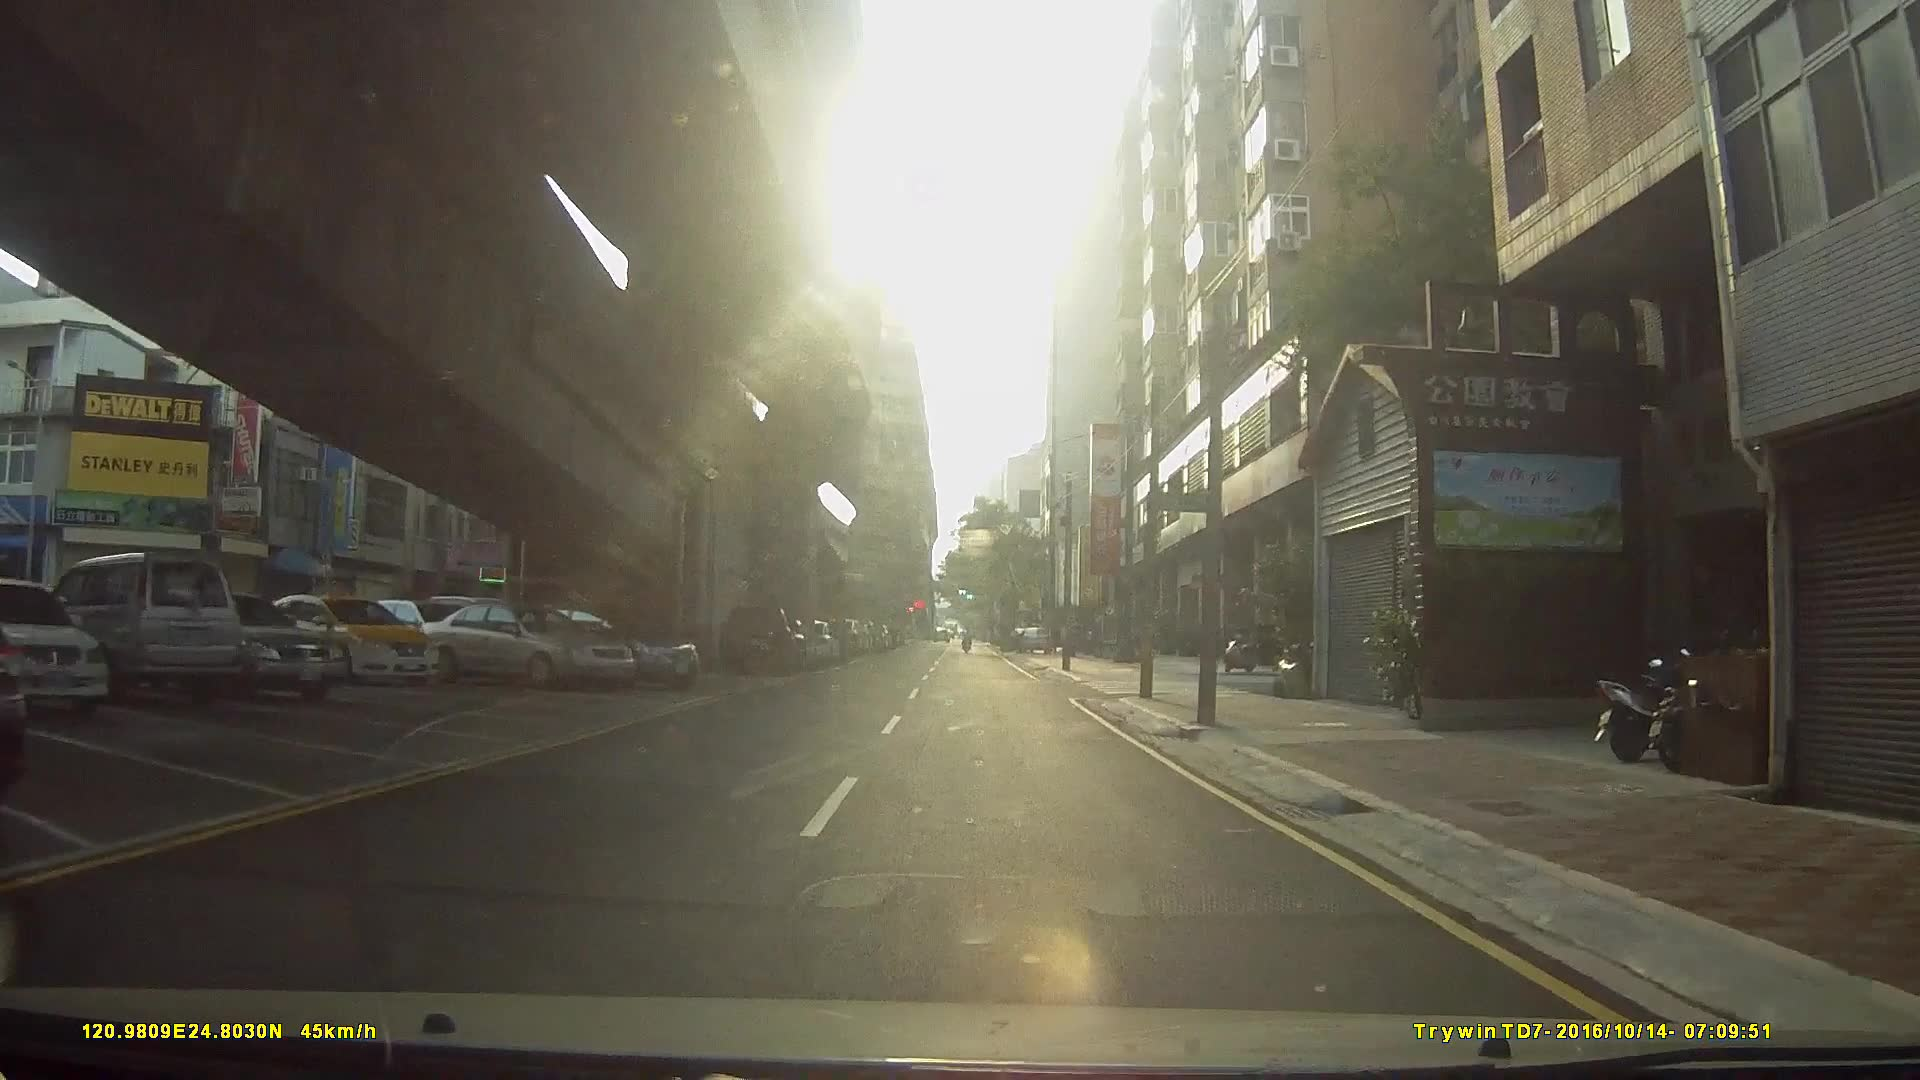vehicle: (40, 551, 244, 705), (129, 589, 347, 702), (406, 597, 630, 688), (485, 599, 699, 690), (264, 592, 436, 684), (0, 579, 107, 717), (715, 600, 800, 676)
